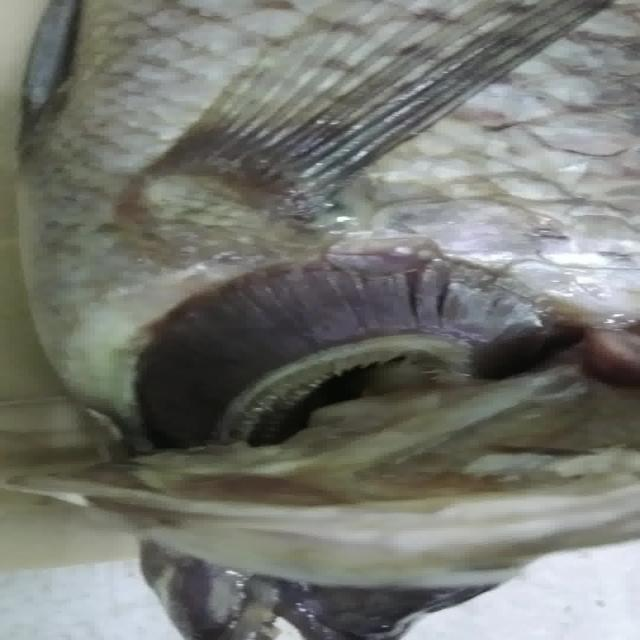Non-Fresh: (116, 240, 567, 441)
